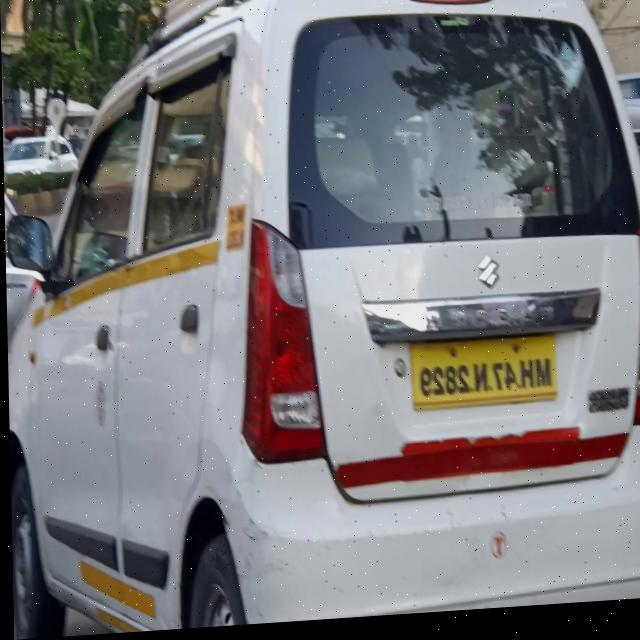plate: (408, 339, 557, 416)
